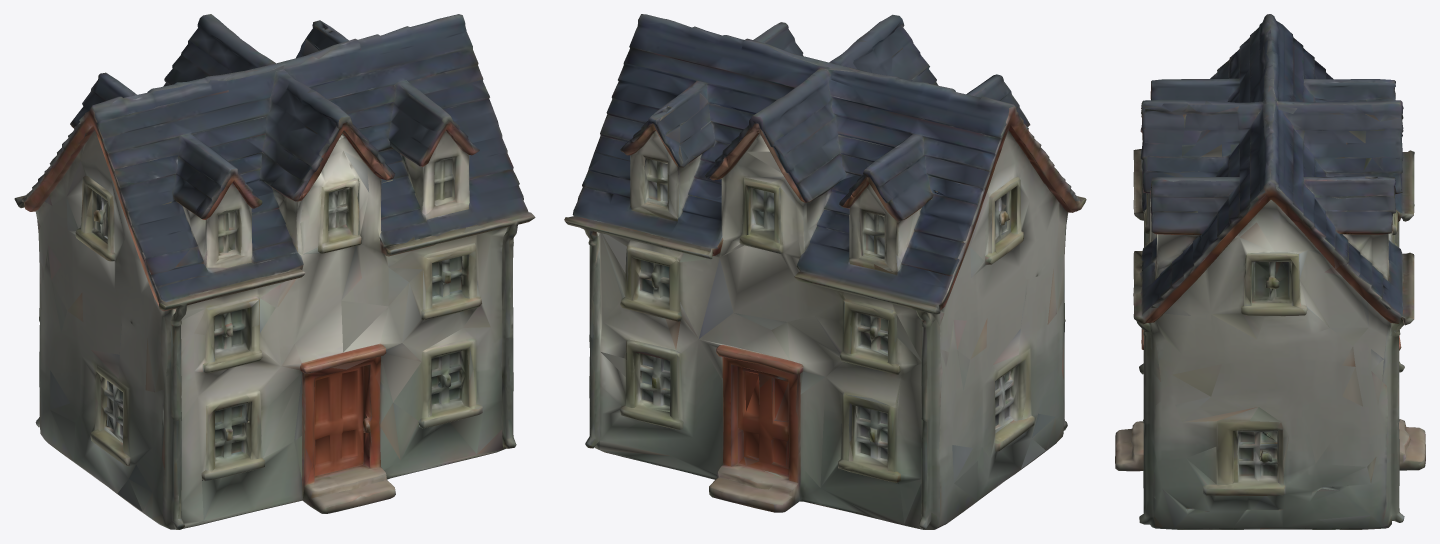
Rendered from sc-home-ink.glb.
The picture shows the model from 3 angles, left to right: view 1: azimuth 30°, elevation 25°; view 2: azimuth 150°, elevation 25°; view 3: azimuth 270°, elevation 25°; orthographic projection. The views are drawn at different scales.
Parts seen in each view (by area): view 1: geometry_0; view 2: geometry_0; view 3: geometry_0.
Part boxes in pixels (bbox=[...]): geometry_0: bbox=[14, 14, 535, 529]; geometry_0: bbox=[564, 14, 1086, 529]; geometry_0: bbox=[1115, 14, 1425, 529].
Bounding box in the file's own units: 1 × 0.9972 × 0.7824.
Materials: 1 (1 with a texture image).
